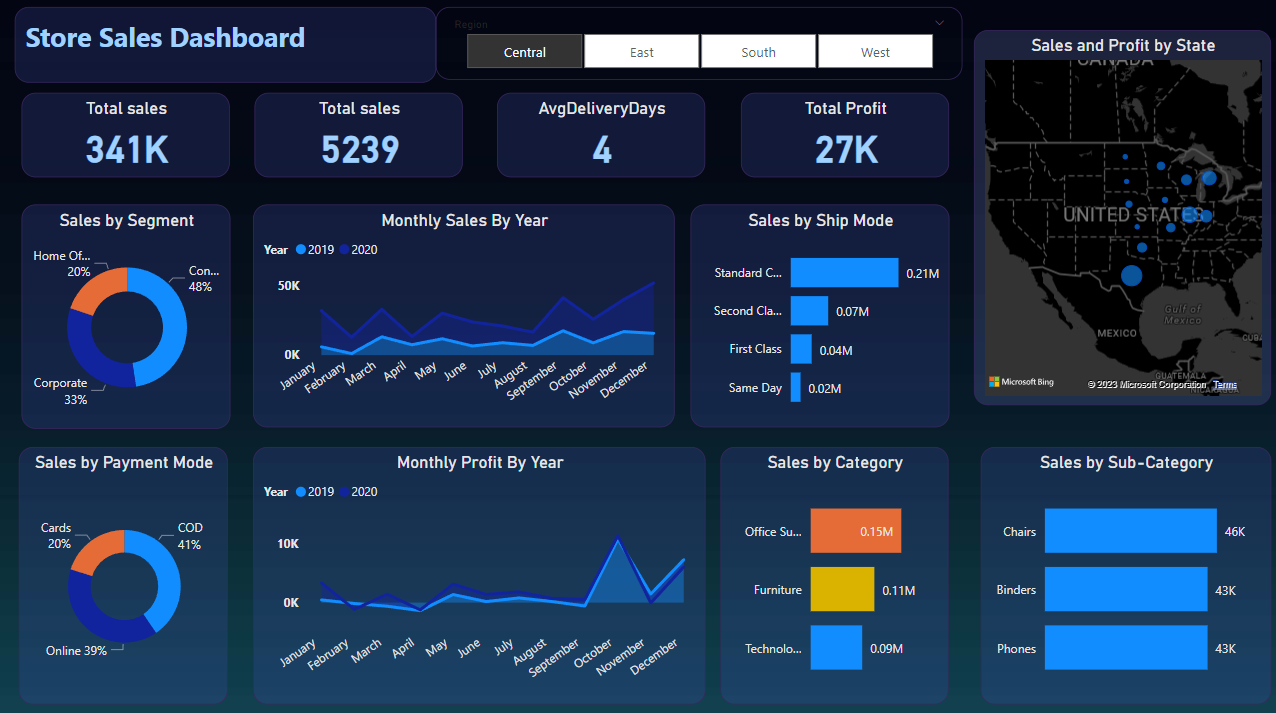

What the dashboard file says about the page in this screenshot:
{"tool":"powerbi","page":{"name":"Page 1","canvas":[1280,720],"ordinal":0},"visuals":[{"type":"clusteredBarChart","title":"Sales by Category","fields":{"Category":["SuperStore_Sales_Dataset.Category"],"Y":["Sum(SuperStore_Sales_Dataset.Sales)"]},"box":[722.4,450,227.6,256.9],"z":0},{"type":"clusteredBarChart","title":"Sales by Sub-Category","fields":{"Category":["SuperStore_Sales_Dataset.Sub-Category"],"Y":["Sum(SuperStore_Sales_Dataset.Sales)"]},"box":[981,450,289.7,256.9],"z":1000},{"type":"clusteredBarChart","title":"Sales by Ship Mode","fields":{"Category":["SuperStore_Sales_Dataset.Ship Mode"],"Y":["Sum(SuperStore_Sales_Dataset.Sales)"]},"box":[691.4,208.6,258.6,222.4],"z":2000},{"type":"stackedAreaChart","title":"Monthly Sales By Year","fields":{"Y":["Sum(SuperStore_Sales_Dataset.Sales)"],"Category":["SuperStore_Sales_Dataset.Order Date.Variation.Date Hierarchy.Month","SuperStore_Sales_Dataset.Order Date.Variation.Date Hierarchy.Day"],"Series":["SuperStore_Sales_Dataset.Order Date.Variation.Date Hierarchy.Year"]},"box":[255.2,208.6,420.7,222.4],"z":3000},{"type":"stackedAreaChart","title":"Monthly Profit By Year","fields":{"Category":["SuperStore_Sales_Dataset.Order Date.Variation.Date Hierarchy.Month","SuperStore_Sales_Dataset.Order Date.Variation.Date Hierarchy.Day"],"Series":["SuperStore_Sales_Dataset.Order Date.Variation.Date Hierarchy.Year"],"Y":["Sum(SuperStore_Sales_Dataset.Profit)"]},"box":[255.2,450,451.7,256.9],"z":4000},{"type":"map","title":"Sales and  Profit by State","fields":{"Category":["SuperStore_Sales_Dataset.State"],"Size":["Sum(SuperStore_Sales_Dataset.Sales)"]},"box":[974.1,34.5,296.6,374.1],"z":5000},{"type":"donutChart","title":"Sales by Segment","fields":{"Category":["SuperStore_Sales_Dataset.Segment"],"Y":["Sum(SuperStore_Sales_Dataset.Sales)"]},"box":[24.1,208.6,208.6,224.1],"z":6000},{"type":"donutChart","title":"Sales by Payment Mode","fields":{"Category":["SuperStore_Sales_Dataset.Payment Mode"],"Y":["Sum(SuperStore_Sales_Dataset.Sales)"]},"box":[22.4,450,208.6,256.9],"z":7000},{"type":"slicer","fields":{"Values":["SuperStore_Sales_Dataset.Region"]},"box":[437.9,10.3,525.9,72.4],"z":8000},{"type":"textbox","box":[17.2,10.3,420.7,75.9],"z":9000},{"type":"card","title":"Total sales","fields":{"Values":["Sum(SuperStore_Sales_Dataset.Sales)"]},"box":[24.1,96.6,208.6,84.5],"z":10000},{"type":"card","title":"Total Profit","fields":{"Values":["Sum(SuperStore_Sales_Dataset.Profit)"]},"box":[717.2,96.6,208.6,84.5],"z":11000},{"type":"card","title":"Total sales","fields":{"Values":["Sum(SuperStore_Sales_Dataset.Quantity)"]},"box":[255.2,96.6,208.6,84.5],"z":12000},{"type":"card","title":"AvgDeliveryDays","fields":{"Values":["Avg(SuperStore_Sales_Dataset.AvgDelivery)"]},"box":[467.2,98.3,208.6,84.5],"z":13000}]}

Visuals, with their boxes in screenshot pixels (x1, y1, x2, y2), scaled from the page's 1280x720 canvas onto the 1276x713 screenshot:
"Sales by Category" clusteredBarChart: Rect(720, 446, 947, 700)
"Sales by Sub-Category" clusteredBarChart: Rect(978, 446, 1267, 700)
"Sales by Ship Mode" clusteredBarChart: Rect(689, 207, 947, 427)
"Monthly Sales By Year" stackedAreaChart: Rect(254, 207, 674, 427)
"Monthly Profit By Year" stackedAreaChart: Rect(254, 446, 705, 700)
"Sales and  Profit by State" map: Rect(971, 34, 1267, 405)
"Sales by Segment" donutChart: Rect(24, 207, 232, 428)
"Sales by Payment Mode" donutChart: Rect(22, 446, 230, 700)
slicer - SuperStore_Sales_Dataset.Region: Rect(437, 10, 961, 82)
textbox: Rect(17, 10, 437, 85)
"Total sales" card: Rect(24, 96, 232, 179)
"Total Profit" card: Rect(715, 96, 923, 179)
"Total sales" card: Rect(254, 96, 462, 179)
"AvgDeliveryDays" card: Rect(466, 97, 674, 181)
